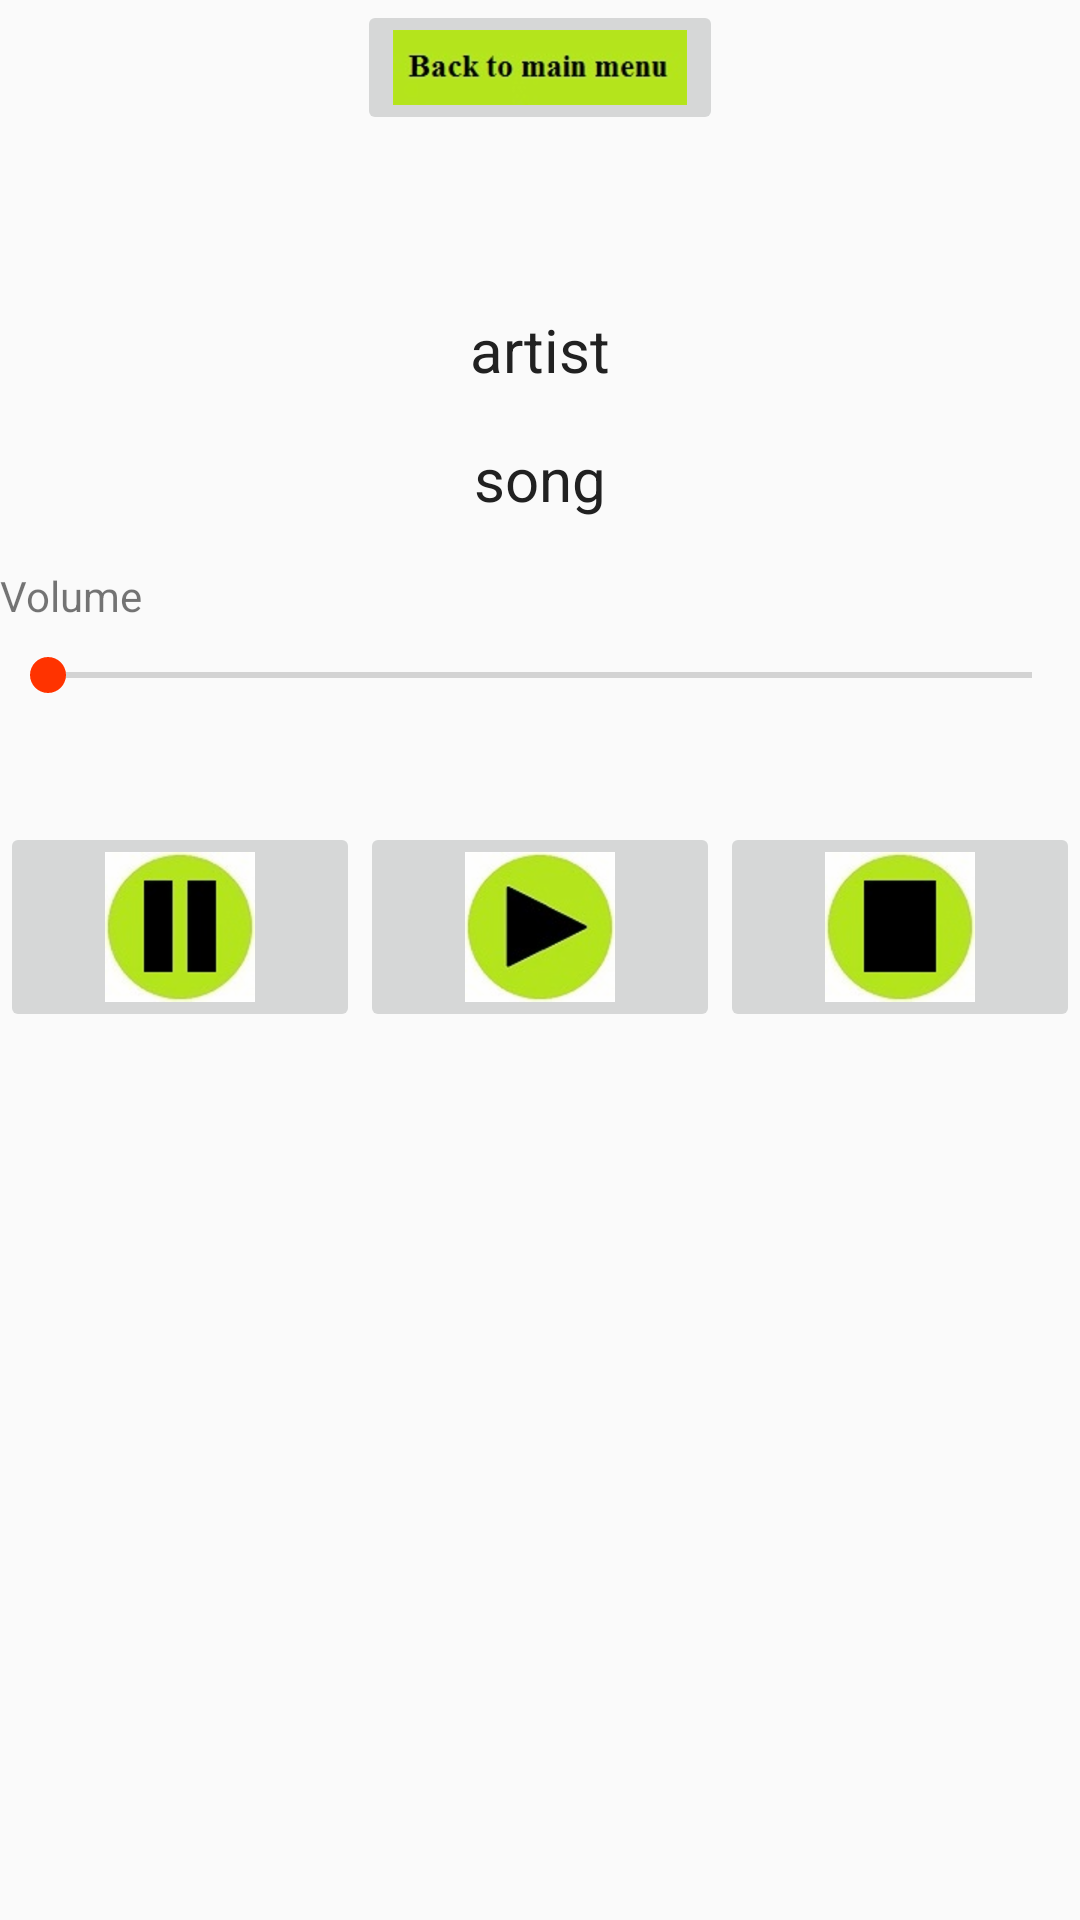

Where to tap for icons on this 1080×1920 app screen, as (x,y):
pause button: (180,927)
play button: (540,927)
stop button: (900,927)
